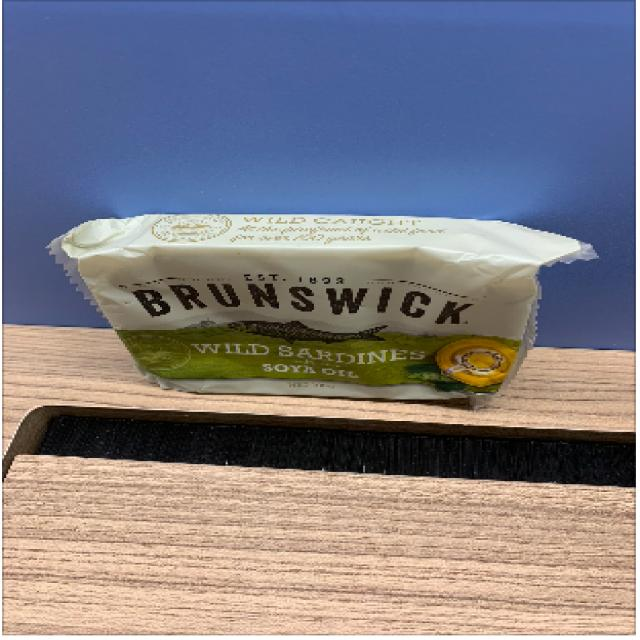object_name: (78, 222, 558, 402)
